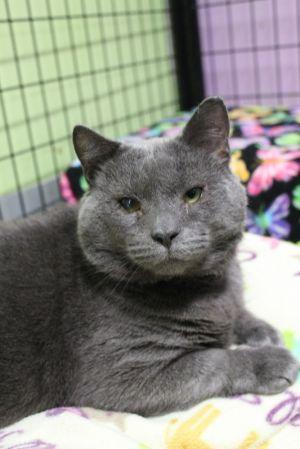rblue: (56, 92, 265, 292)
